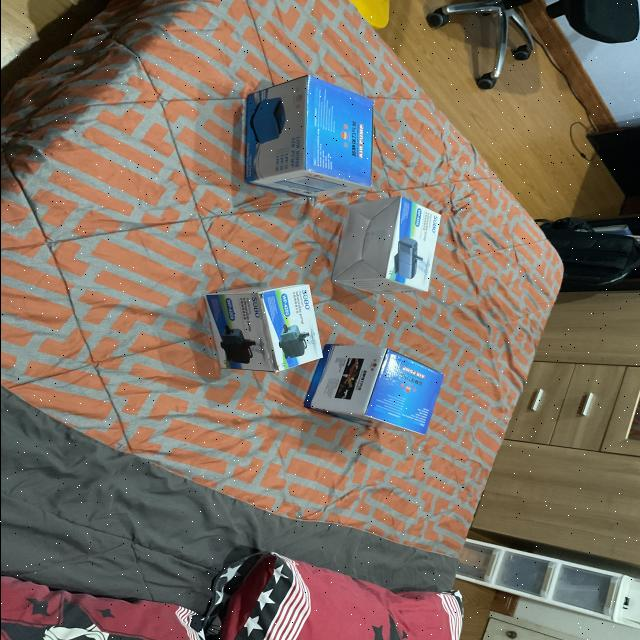SOBO_WP_4200: (338, 194, 462, 306), (200, 282, 324, 392)
YAMANO_LPP_20: (238, 74, 392, 202), (304, 343, 464, 444)
